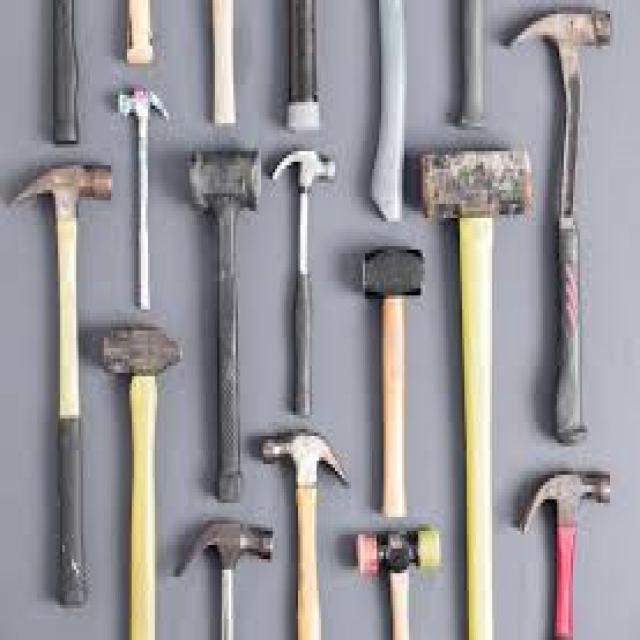hammer: (0, 156, 114, 513), (247, 411, 358, 640), (254, 145, 355, 379), (498, 457, 627, 640), (173, 495, 289, 640)
